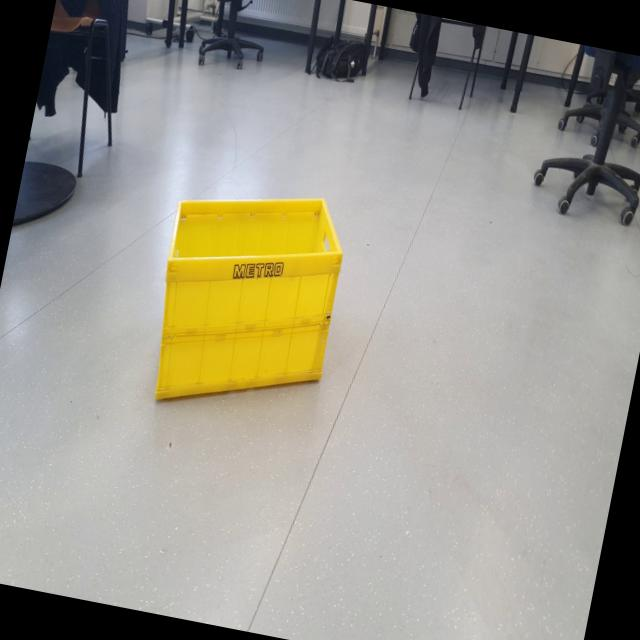box: (130, 163, 367, 436)
